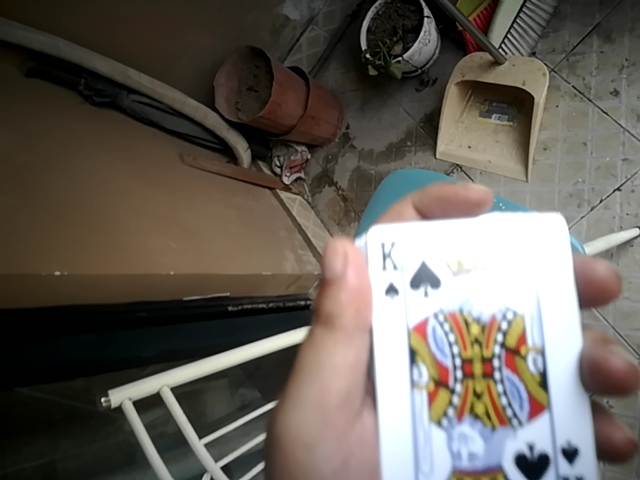ht k: (355, 189, 580, 480)
